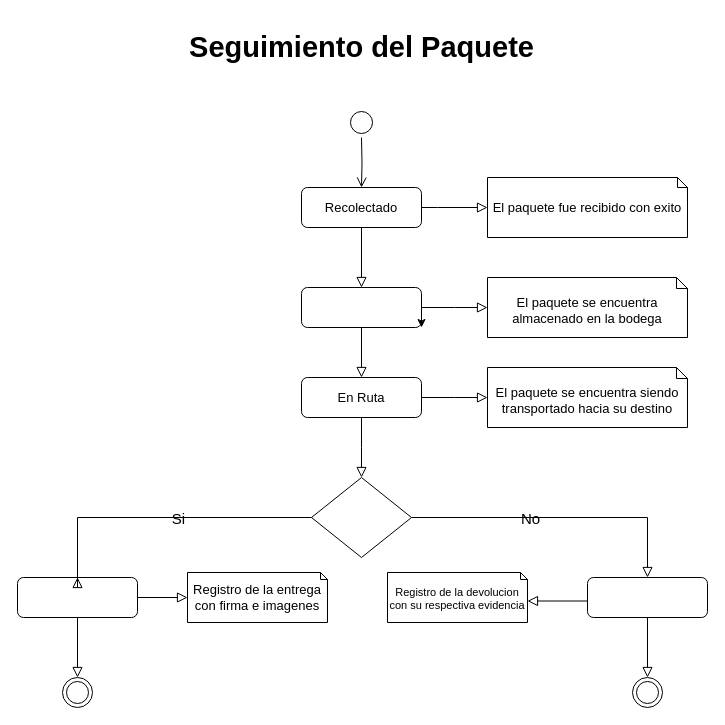
This 725x725 diagram has some shape labels left out. Each missing label, with the box of its shape:
Devolucion: (586, 576, 708, 618)
En Bodega: (300, 286, 422, 328)
Entregado: (16, 576, 138, 618)
¿Entrega correcta?: (310, 476, 412, 558)
